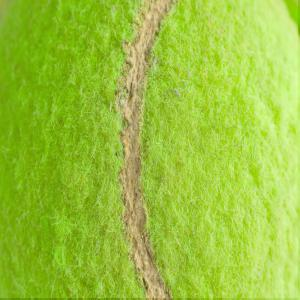TennisBall: (1, 1, 300, 300)
